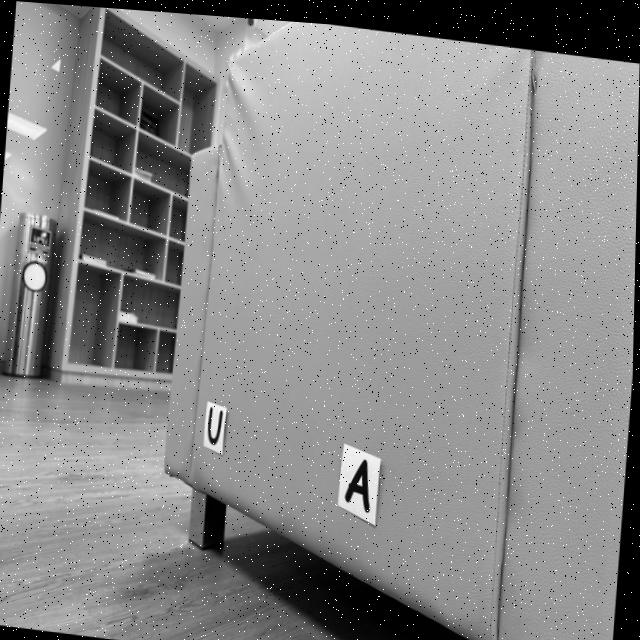A: (348, 453, 372, 507)
U: (209, 404, 225, 441)
